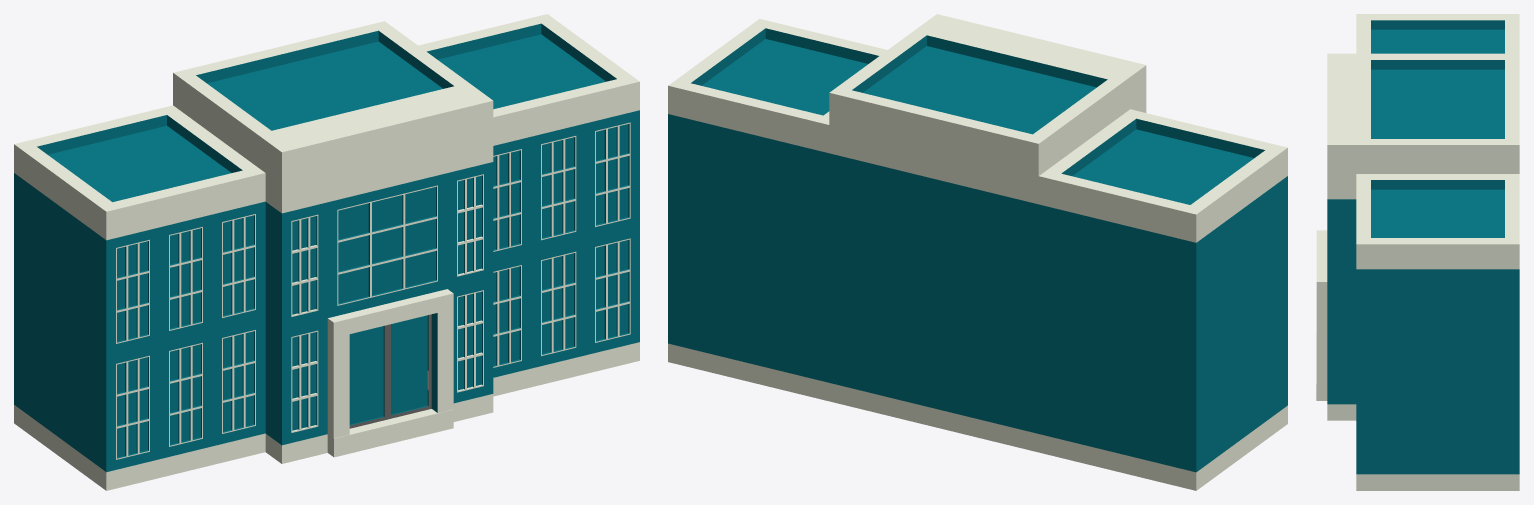
3 views of the same model, side by side, from view 1: azimuth 30°, elevation 25°; view 2: azimuth 150°, elevation 25°; view 3: azimuth 270°, elevation 25° (orthographic). The views are drawn at different scales.
Visible parts, largest first — view 1: 4; view 2: 4; view 3: 4.
Part boxes in pixels (x1,y1,x2,y2): 4: (14,14,639,490); 4: (668,14,1287,490); 4: (1316,14,1519,490).
Bounding box in the file's own units: 2000 × 1117 × 747.
